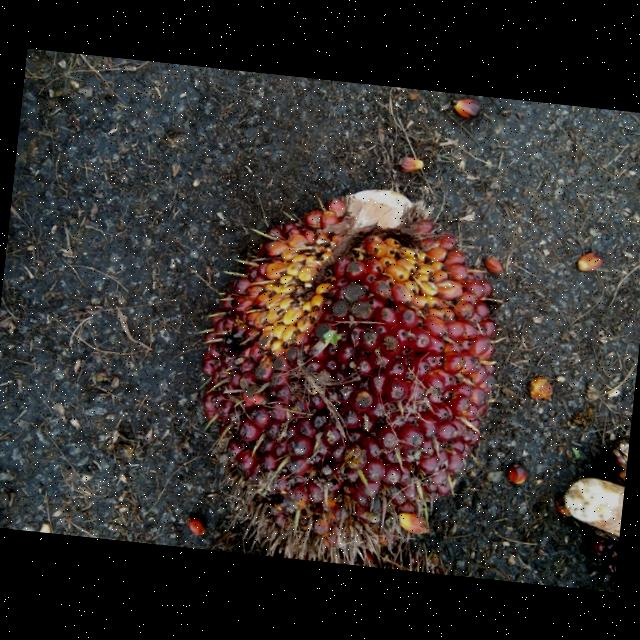Ripe: (184, 198, 498, 551)
